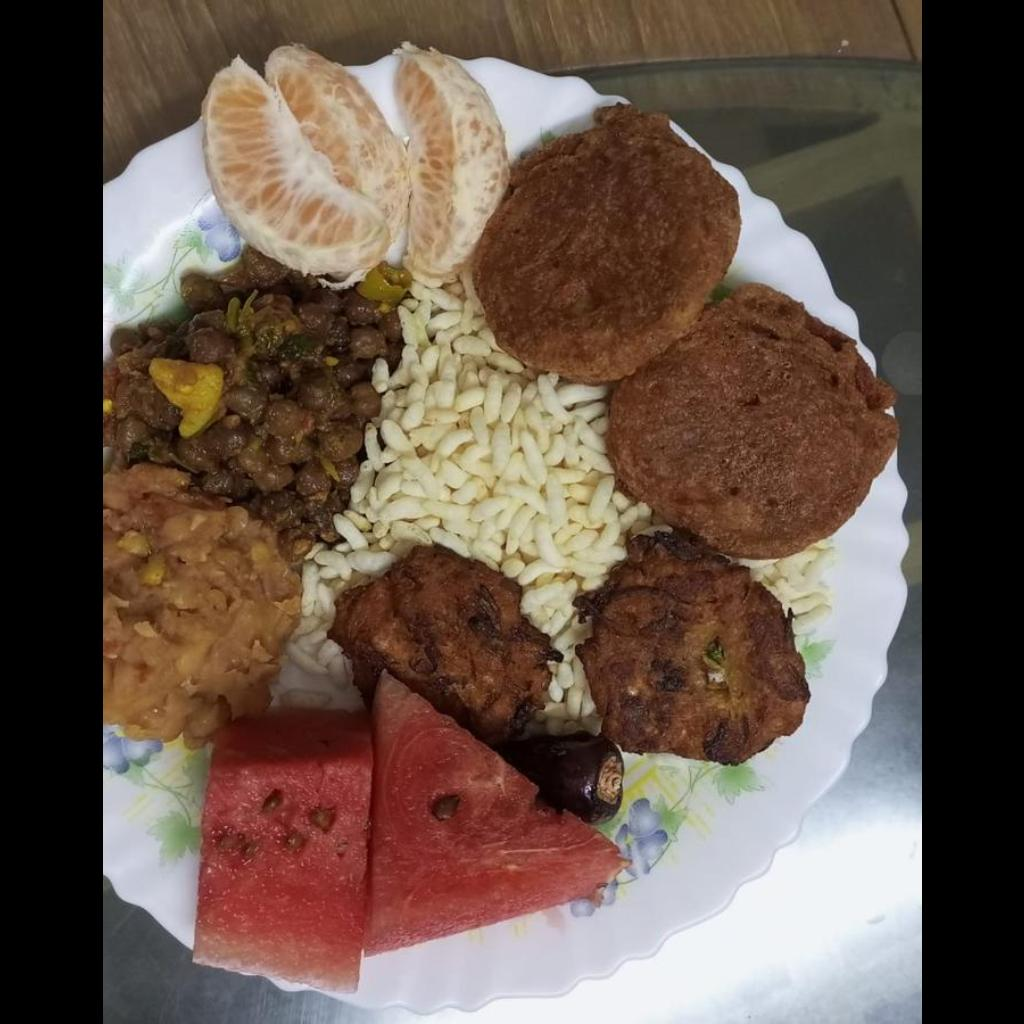chola: (102, 259, 394, 553)
daal: (102, 464, 298, 746)
dates: (496, 733, 622, 823)
kabab: (481, 103, 889, 564)
orange: (205, 39, 498, 270)
peyaju: (338, 548, 809, 764)
puffed-rice: (308, 281, 650, 722)
watermelon: (191, 674, 627, 999)
